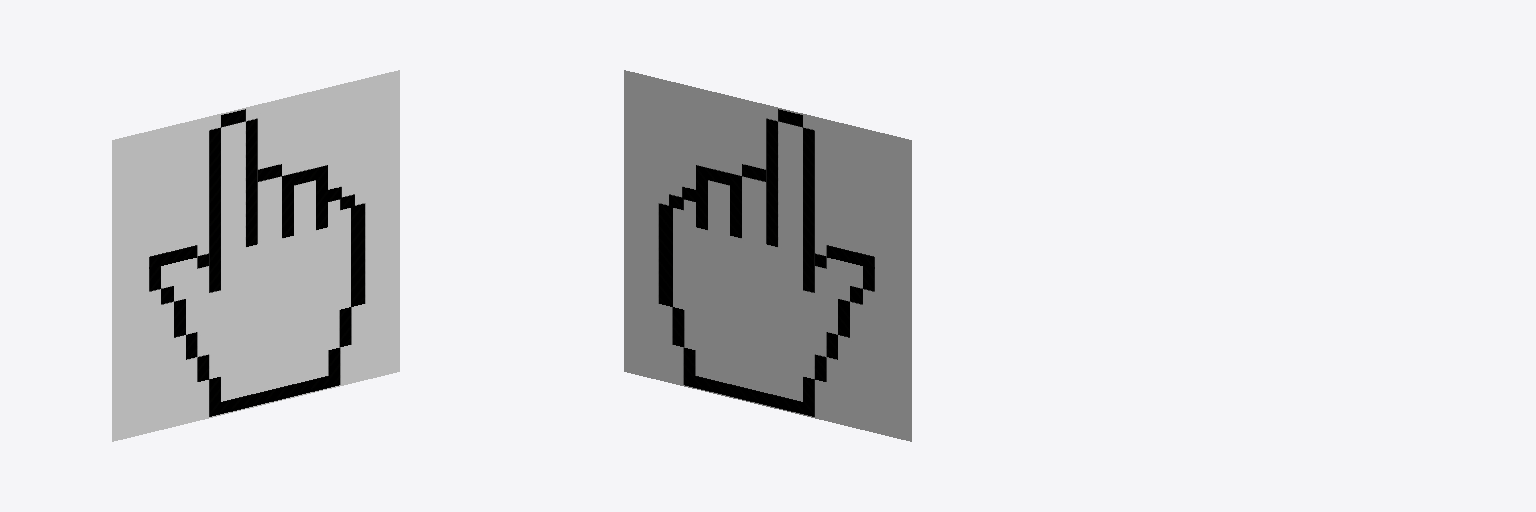
3 renders of one model, left to right at view 1: azimuth 30°, elevation 25°; view 2: azimuth 150°, elevation 25°; view 3: azimuth 270°, elevation 25°, orthographic.
Parts seen in each view (by area): view 1: pointermesh_Plane; view 2: pointermesh_Plane; view 3: none.
Part boxes in pixels (x1,y1,x2,y2): pointermesh_Plane: (112, 70, 399, 441); pointermesh_Plane: (624, 70, 911, 441).
Size of the model in its own units: 5048 by 5048 by 0.0004.
Materials: 1 (1 with a texture image).